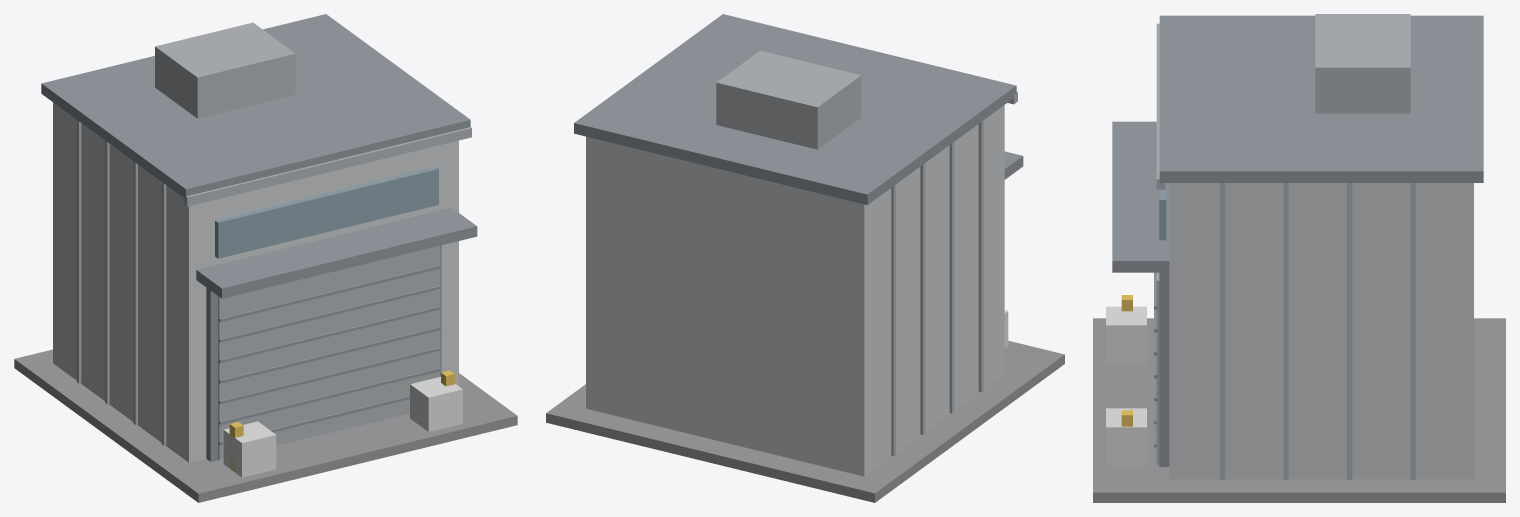
Rendered from industrial_1x1_b.glb.
The picture shows the model from 3 angles, left to right: view 1: azimuth 30°, elevation 25°; view 2: azimuth 150°, elevation 25°; view 3: azimuth 270°, elevation 25°; orthographic projection. The views are drawn at different scales.
Visible parts, largest first — view 1: industrial_1x1_b_yard; view 2: industrial_1x1_b_yard; view 3: industrial_1x1_b_yard.
Boxes of the visible parts, x1,y1,x2,y2 form: industrial_1x1_b_yard: [14, 14, 517, 502]; industrial_1x1_b_yard: [546, 14, 1064, 502]; industrial_1x1_b_yard: [1093, 14, 1505, 502].
Size of the model in its own units: 6.5 by 6.4 by 6.5.
